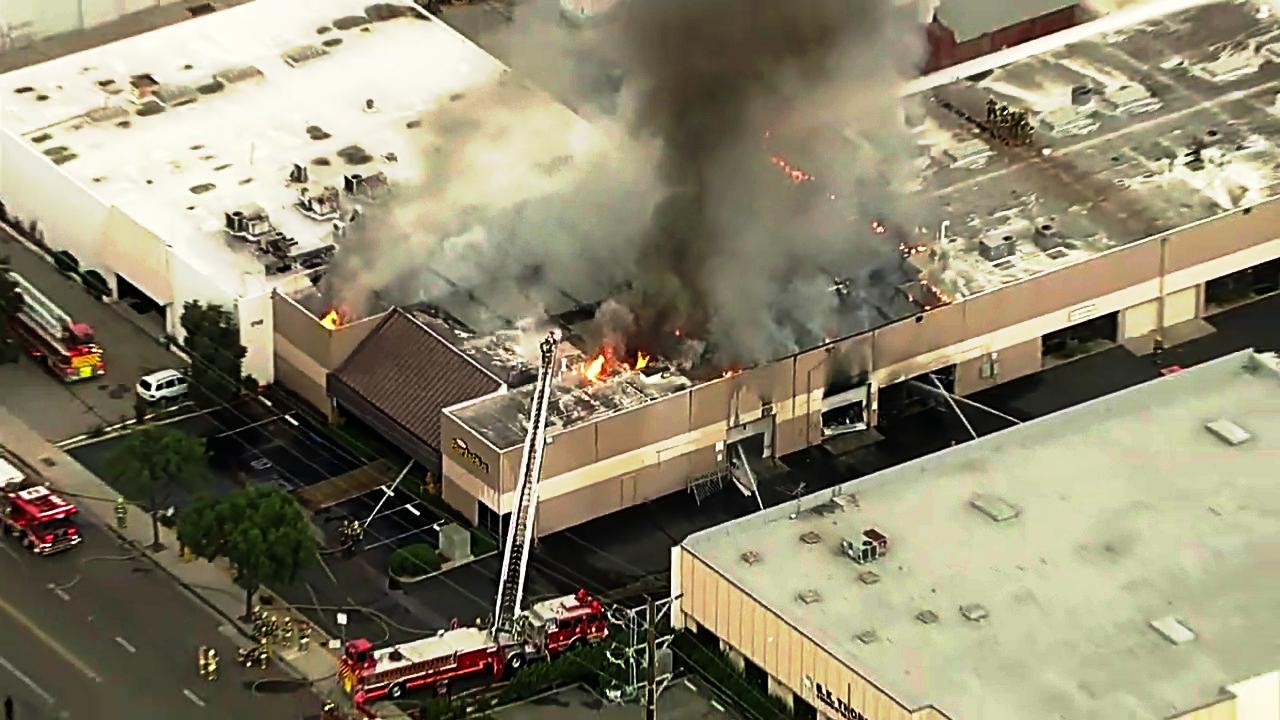smoke: (547, 0, 757, 307)
